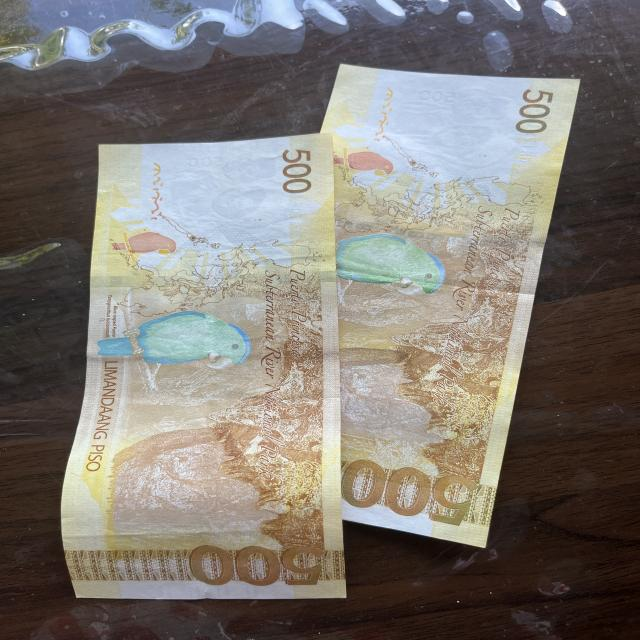500_big_parrot: (100, 312, 253, 372), (335, 228, 448, 297)
500_parrot_watermark: (332, 146, 397, 180), (106, 230, 183, 257)
value_watermark: (416, 88, 458, 106), (184, 153, 228, 168)
watermark: (404, 77, 516, 167), (171, 152, 283, 232)
